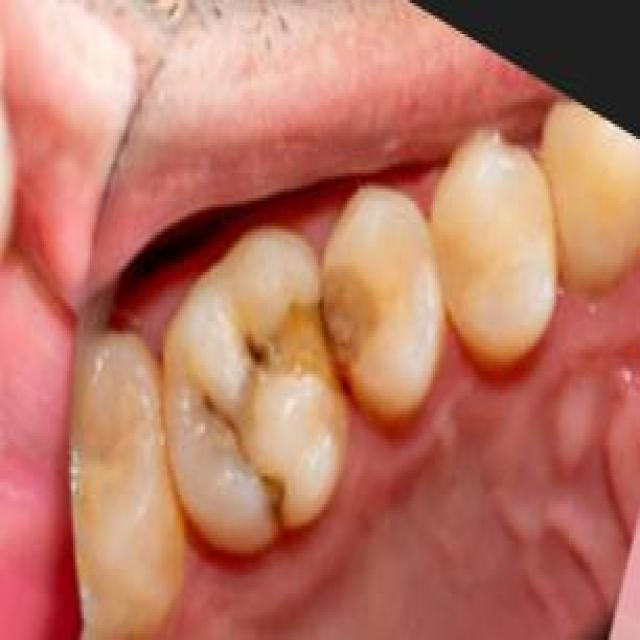caries: (239, 255, 385, 404), (190, 380, 259, 474), (247, 453, 299, 534)
